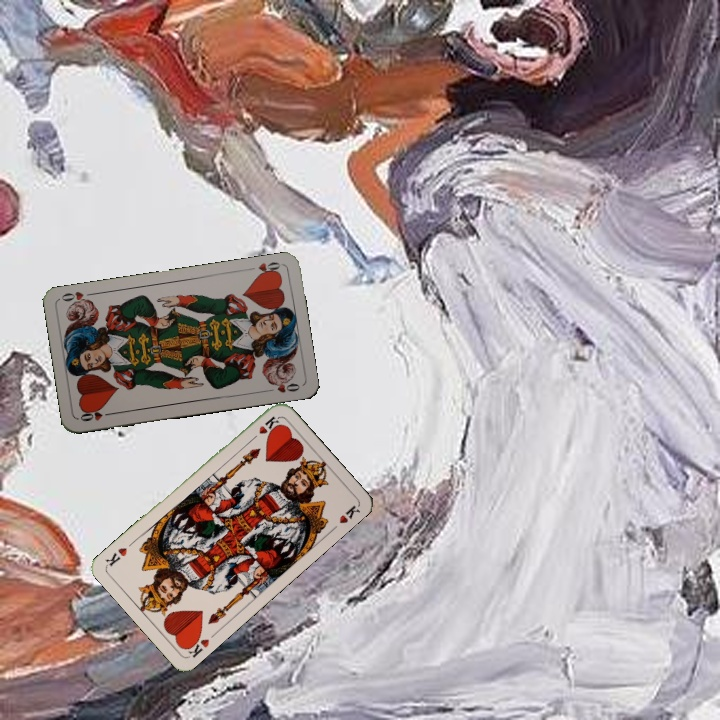HK: (246, 412, 282, 444), (180, 631, 212, 660)
HO: (76, 405, 116, 424), (253, 258, 284, 279)
